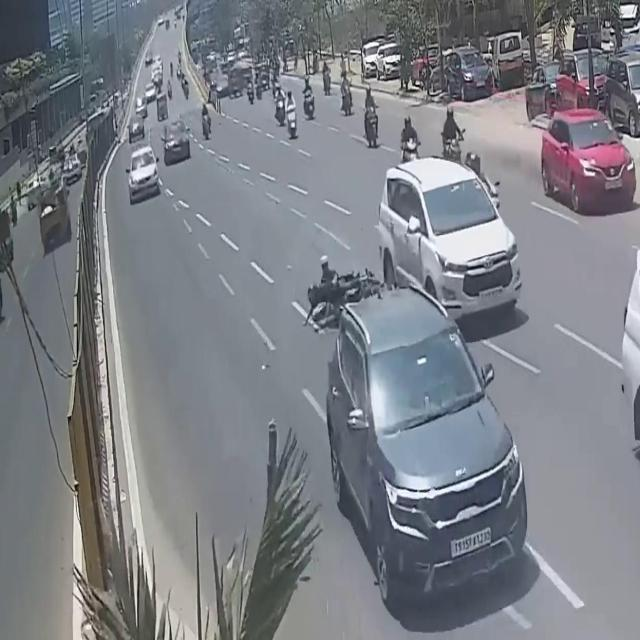accident: (299, 246, 389, 344)
non_accident: (519, 47, 640, 139), (407, 36, 491, 98), (207, 47, 271, 117), (358, 24, 406, 88), (132, 41, 169, 123)
